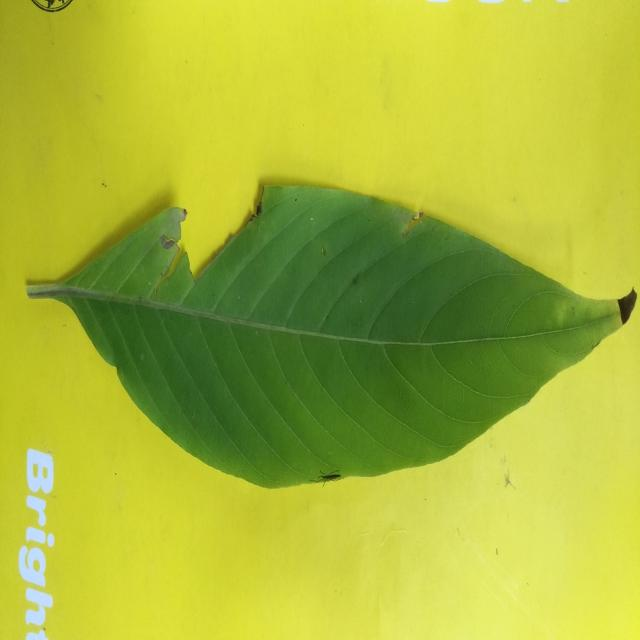leaf spot: (28, 187, 635, 487)
